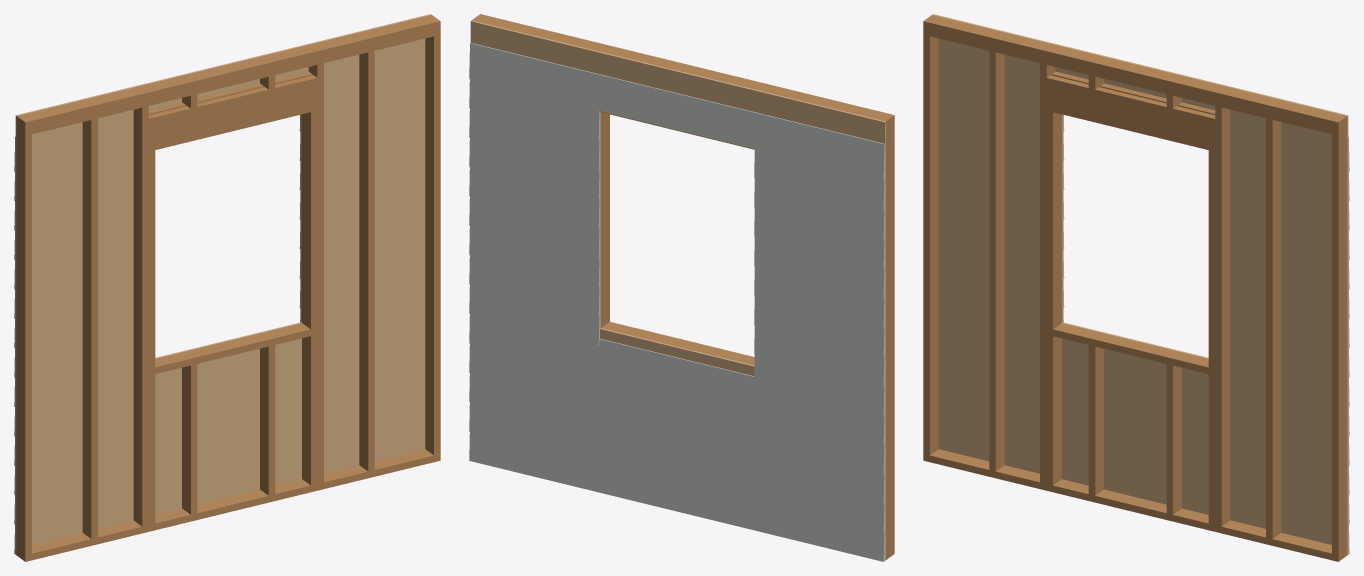
Rendered from wall_stud_sample.glb.
3 views of the same model, side by side, from view 1: azimuth 30°, elevation 25°; view 2: azimuth 150°, elevation 25°; view 3: azimuth 330°, elevation 25° (orthographic).
Parts seen in each view (by area): view 1: wall_stud_sample; view 2: wall_stud_sample; view 3: wall_stud_sample.
Boxes of the visible parts, bbox=[...] form: wall_stud_sample: bbox=[14, 14, 440, 561]; wall_stud_sample: bbox=[469, 14, 894, 561]; wall_stud_sample: bbox=[923, 14, 1349, 561].
Size of the model in its own units: 2.44 by 2.47 by 0.1129.
